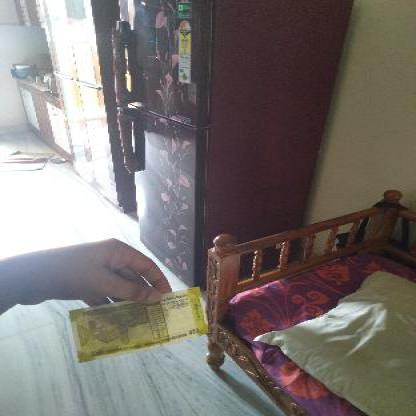New20Back: (68, 286, 209, 358)
